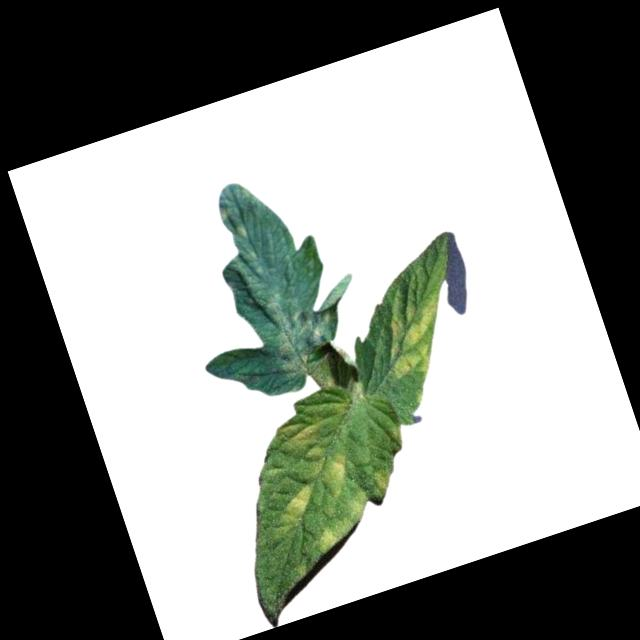Leaf_Mold: (251, 281, 344, 384), (368, 293, 458, 384), (273, 413, 326, 466), (265, 483, 321, 533), (320, 452, 356, 493), (363, 463, 398, 498), (308, 521, 341, 556)
